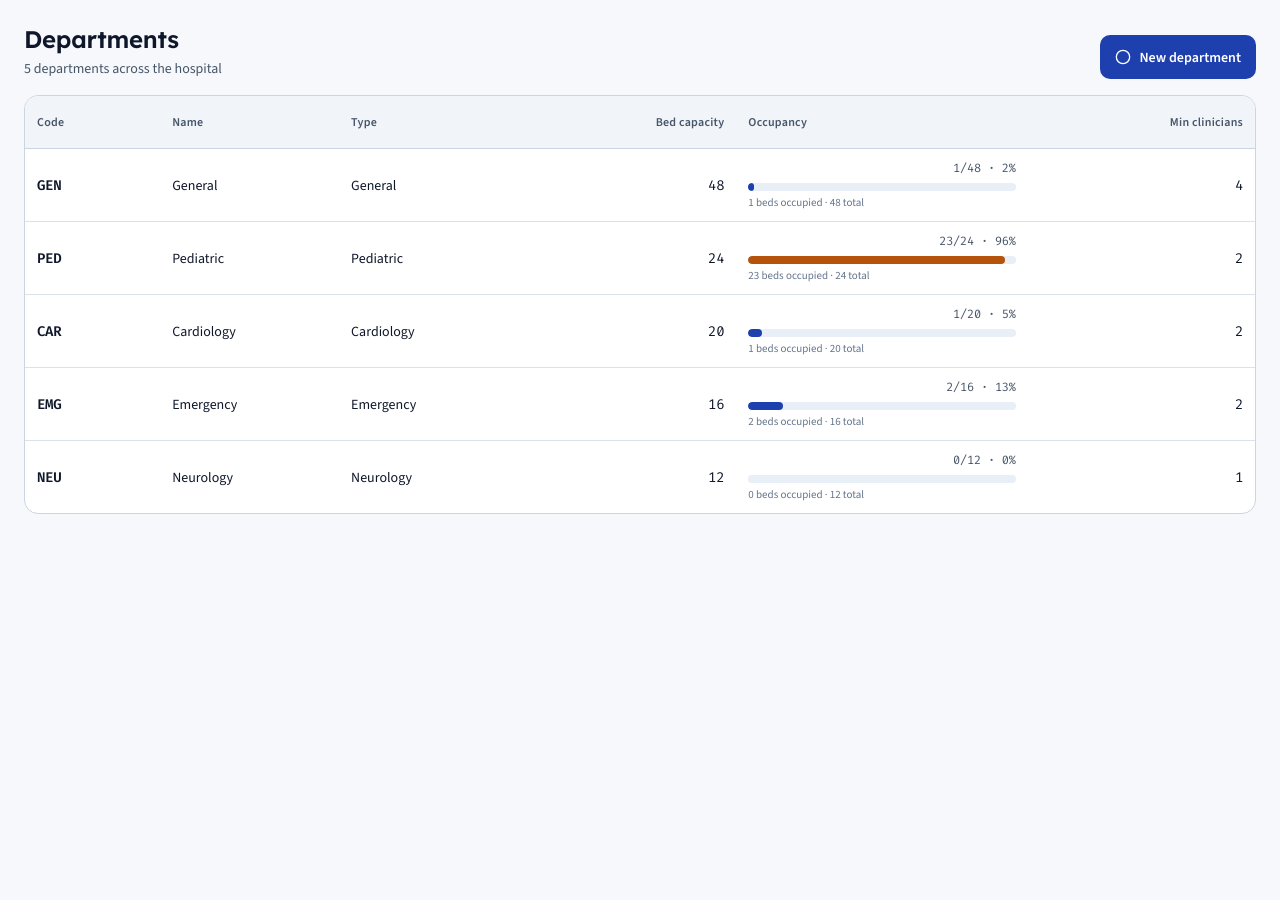
Scenario: Admin wiring (#31/#32/#33) › surfaces a live 409 duplicate department conflict on create
This screenshot has width=1280, height=900.
Click the button "New department".
click(1178, 57)  # box [1100,35,1256,79]
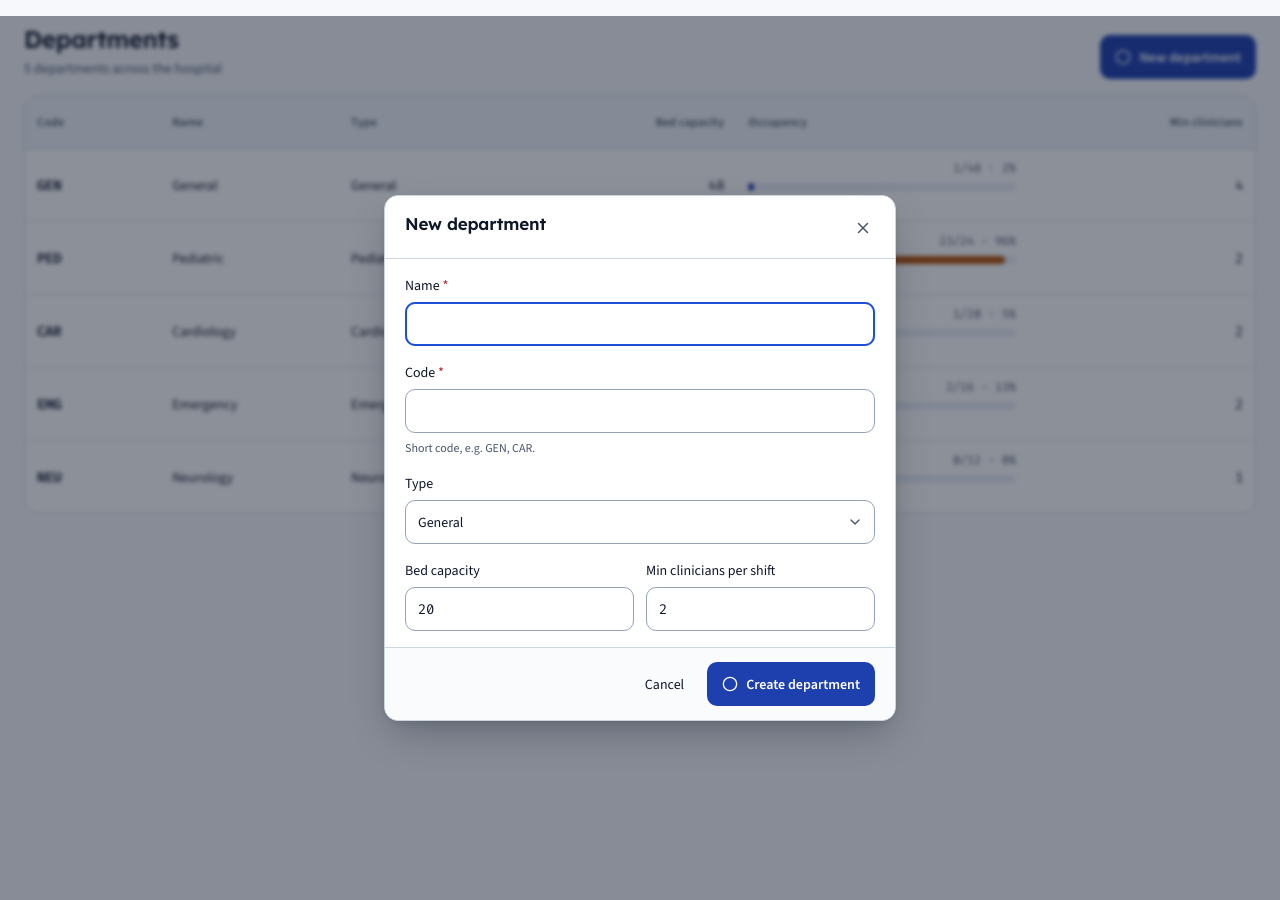
Type "GEN" into the field labelled "Code *".
click(640, 411); type("GEN")  # box [405,389,875,433]
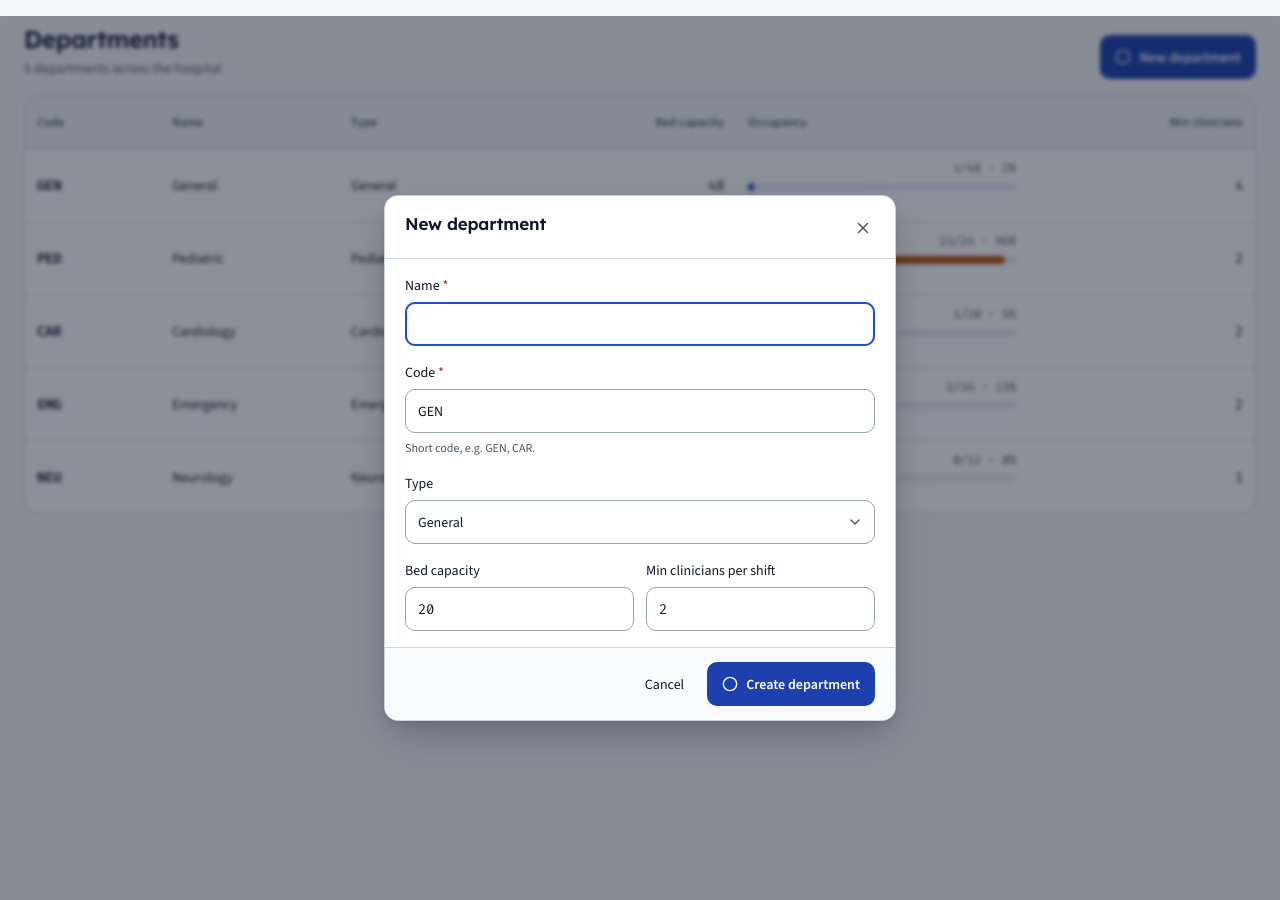
Type "General" into the field labelled "Name *".
click(640, 324); type("General")  # box [405,302,875,346]
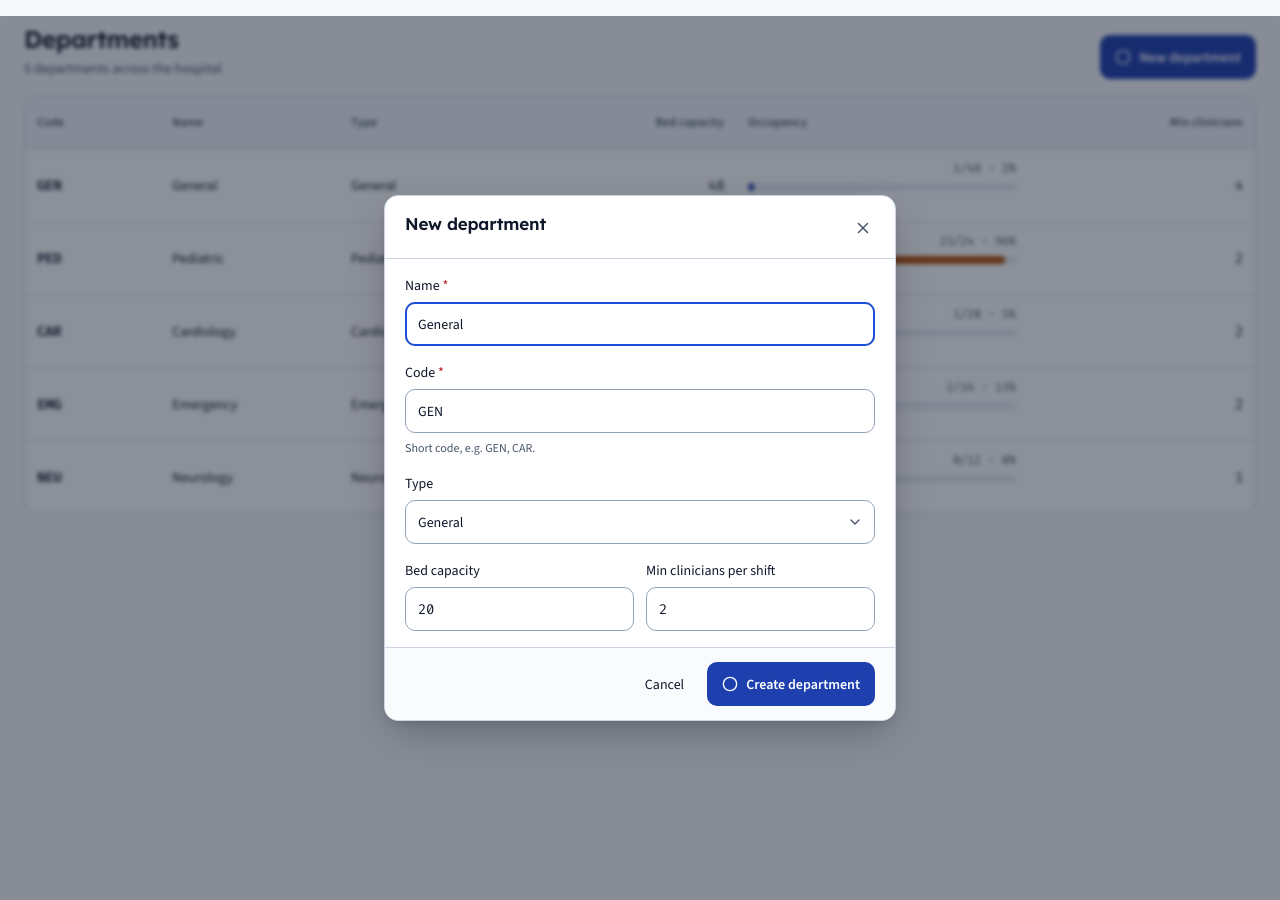
Click the button "Create department".
click(791, 684)  # box [707,662,875,706]
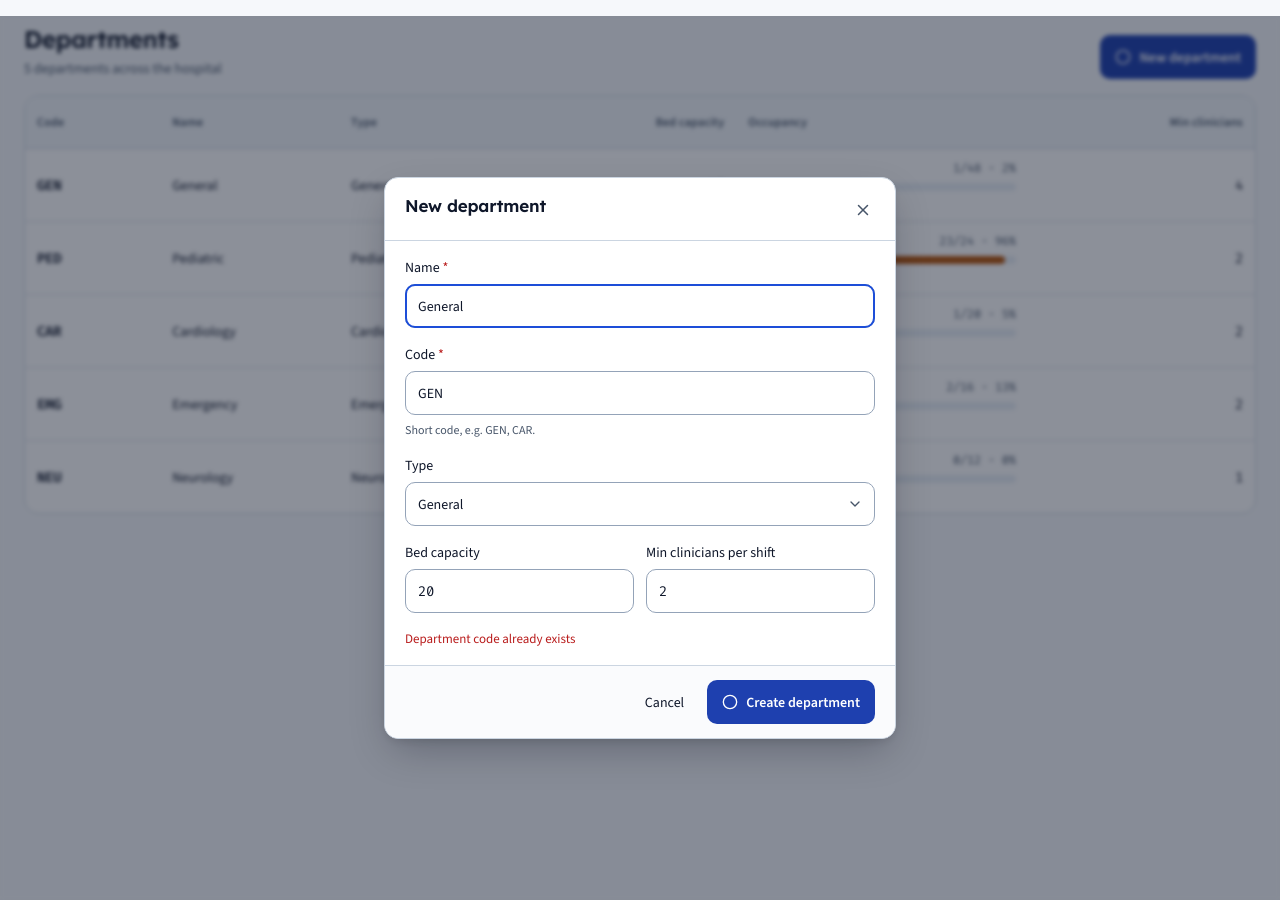
Expected: the message shows "already exists", [405,630,575,647]
